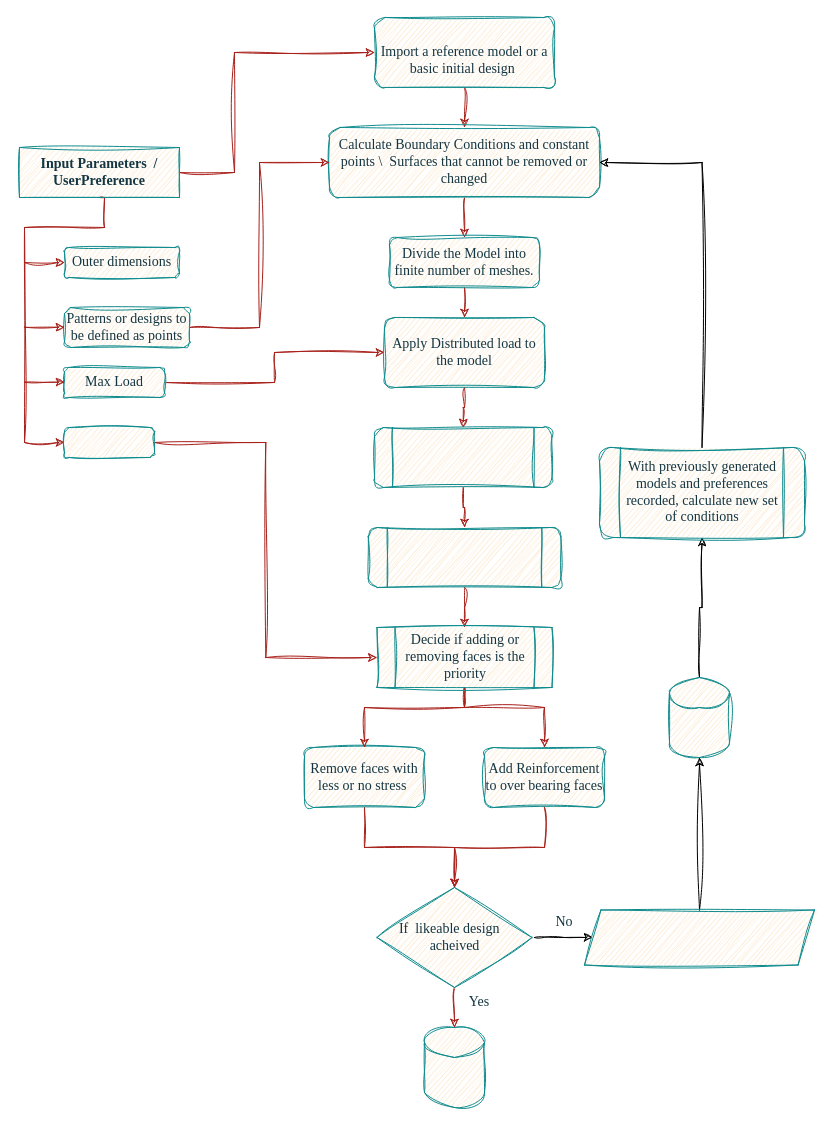
This 832x1125 diagram has some shape labels left out. Each missing label, with the centre of its shape:
"Classify the mesh faces based on the acting stress on that mesh" goes at point (464, 557).
"Collect feedback on likeable faces or likeable patterns if available" goes at point (699, 937).
"Models database" goes at point (454, 1067).
"Perform Stress analysis using finite element method" goes at point (463, 457).
"Temp. storage" goes at point (699, 717).
"Volume / Mass" goes at point (109, 442).
